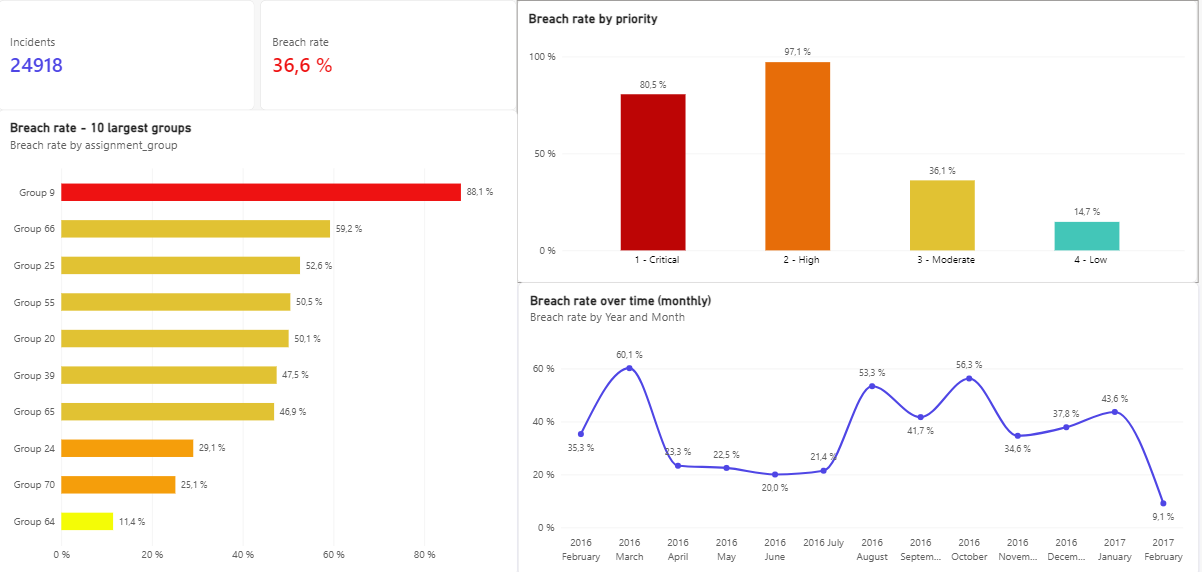

Layout of this report page (visuals, bound fields, positions):
{"tool":"powerbi","page":{"name":"Figure 3 - Overview","canvas":[1920,1080],"ordinal":0},"visuals":[{"type":"cardVisual","fields":{"Data":["fct_incidents.Incidents","fct_incidents.Breach rate"]},"box":[0,159.5,728.9,155.1],"z":0},{"type":"clusteredColumnChart","fields":{"Category":["fct_incidents.priority"],"Y":["fct_incidents.Breach rate"]},"box":[728.9,159.5,954.8,396.6],"z":1000},{"type":"clusteredBarChart","fields":{"Category":["fct_incidents.assignment_group"],"Y":["fct_incidents.Breach rate"]},"box":[0,314.6,728.9,655.8],"z":2000},{"type":"lineChart","fields":{"Category":["fct_incidents.opened_at.Variation.Date Hierarchy.Year","fct_incidents.opened_at.Variation.Date Hierarchy.Month"],"Y":["fct_incidents.Breach rate"]},"box":[728.9,556.1,954.8,414.3],"z":3000}]}

Visuals, with their boxes on the page's 1920x1080 design canvas (x1, y1, x2, y2). These are canvas units, not pixel positions in the 1202x572 screenshot, which may show the page scaled, cropped or inside an application window:
cardVisual - fct_incidents.Incidents x fct_incidents.Breach rate: x1=0, y1=160, x2=729, y2=315
clusteredColumnChart - fct_incidents.priority x fct_incidents.Breach rate: x1=729, y1=160, x2=1684, y2=556
clusteredBarChart - fct_incidents.assignment_group x fct_incidents.Breach rate: x1=0, y1=315, x2=729, y2=970
lineChart - fct_incidents.opened_at.Variation.Date Hierarchy.Year x fct_incidents.opened_at.Variation.Date Hierarchy.Month: x1=729, y1=556, x2=1684, y2=970
